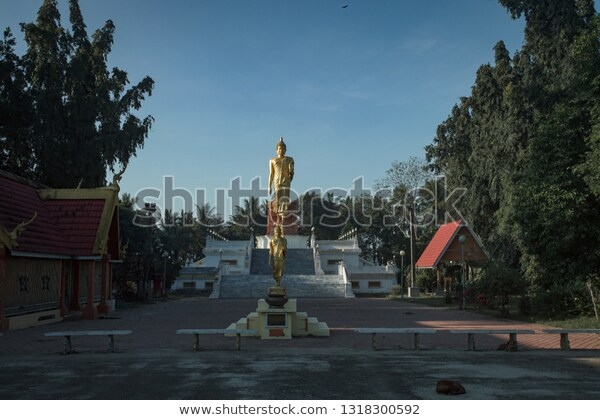Buddhist Temple: (255, 142, 302, 274)
